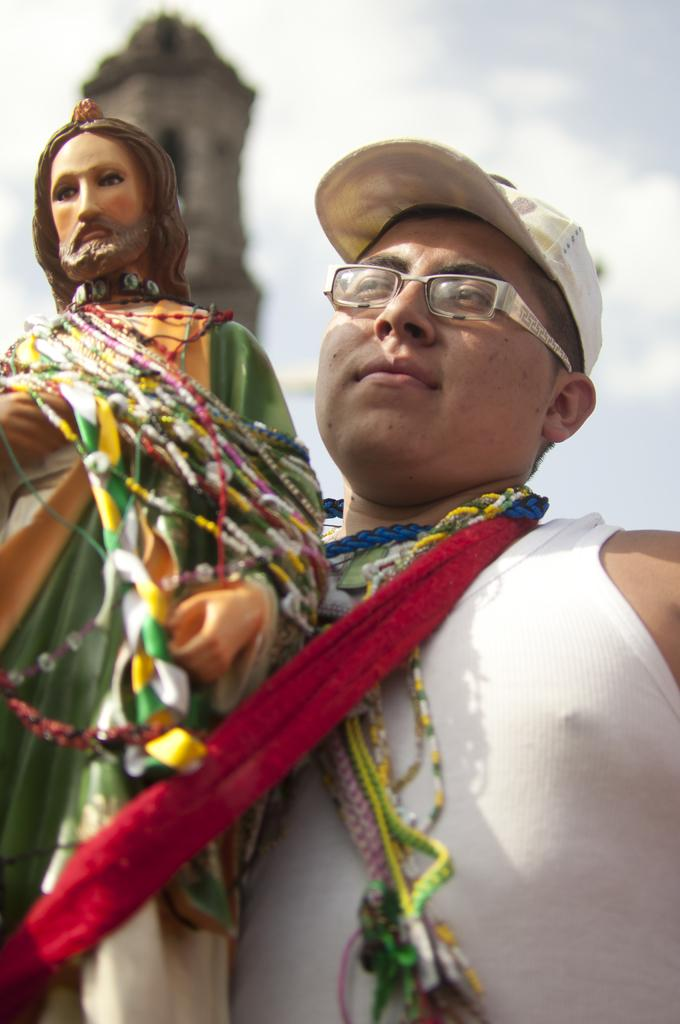Hat: (312, 140, 598, 374)
